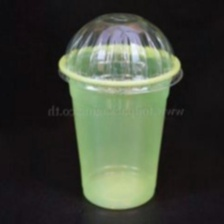glass: (44, 8, 187, 214)
